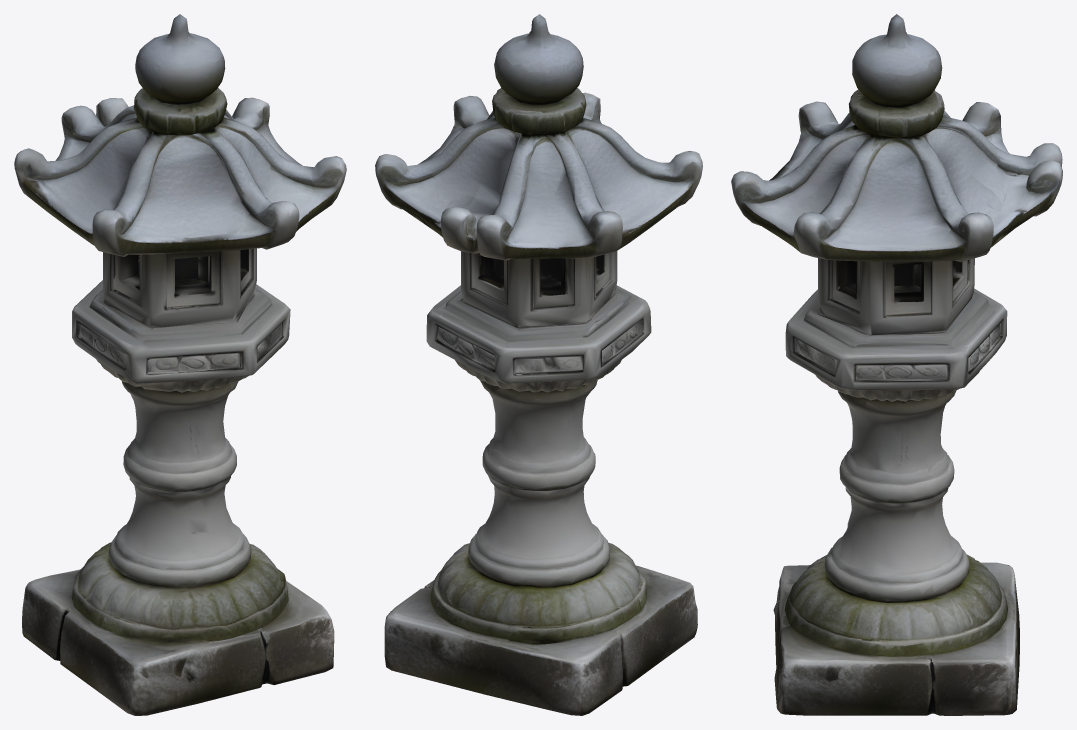
The model's file is stone_lantern_toro_lod8k.glb.
3 renders of one model, left to right at view 1: azimuth 30°, elevation 25°; view 2: azimuth 150°, elevation 25°; view 3: azimuth 270°, elevation 25°, orthographic. The views are drawn at different scales.
Parts seen in each view (by area): view 1: node_0; view 2: node_0; view 3: node_0.
Boxes of the visible parts, <box> form: node_0: <box>14,14,346,715</box>; node_0: <box>375,14,702,715</box>; node_0: <box>731,14,1062,715</box>.
Bounding box in the file's own units: 0.827 × 2 × 0.9232.
1 material, 1 textured.
